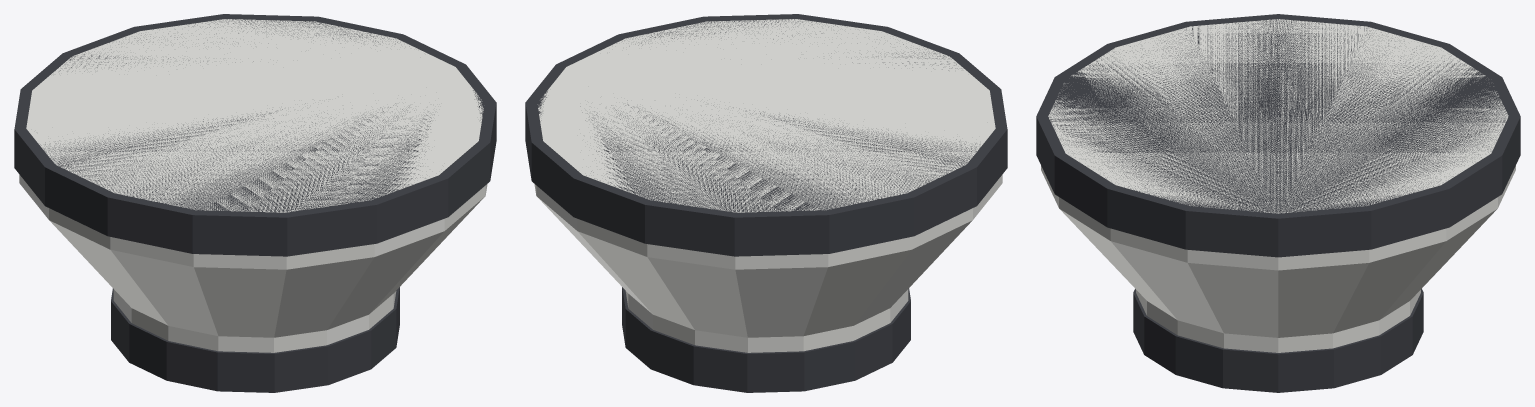
The model's file is Adp_S_M.fbx.
3 views of the same model, side by side, from view 1: azimuth 30°, elevation 25°; view 2: azimuth 150°, elevation 25°; view 3: azimuth 270°, elevation 25° (orthographic).
Parts seen in each view (by area): view 1: Adp_S_M; view 2: Adp_S_M; view 3: Adp_S_M.
Boxes of the visible parts, x1,y1,x2,y2 form: Adp_S_M: [14, 14, 496, 392]; Adp_S_M: [525, 14, 1007, 392]; Adp_S_M: [1036, 14, 1520, 392].
Bounding box in the file's own units: 2.04 × 1 × 2.04.
Materials: 1 (1 with a texture image).
